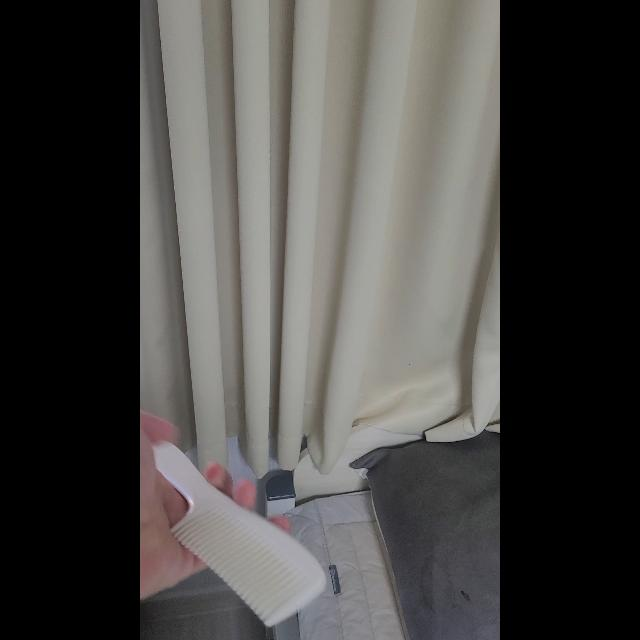COMB: (152, 439, 328, 627)
